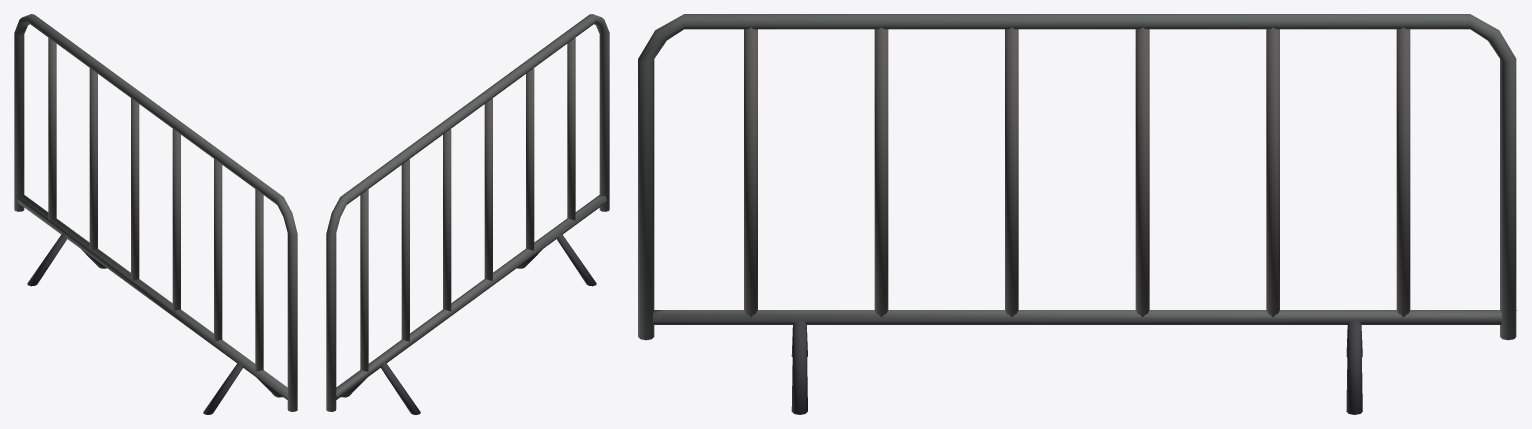
Rendered from ConstructionFence_02.glb.
3 renders of one model, left to right at view 1: azimuth 30°, elevation 25°; view 2: azimuth 150°, elevation 25°; view 3: azimuth 270°, elevation 25°, orthographic. The views are drawn at different scales.
Parts seen in each view (by area): view 1: ConstructionFence_02; view 2: ConstructionFence_02; view 3: ConstructionFence_02.
Boxes of the visible parts, x1=… form: ConstructionFence_02: x1=14, y1=14, x2=297, y2=414; ConstructionFence_02: x1=326, y1=14, x2=609, y2=414; ConstructionFence_02: x1=638, y1=14, x2=1517, y2=414.
Size of what is drawn, in the model's own units: 0.4657 by 1.3 by 2.8.
Materials: 1 (1 with a texture image).
